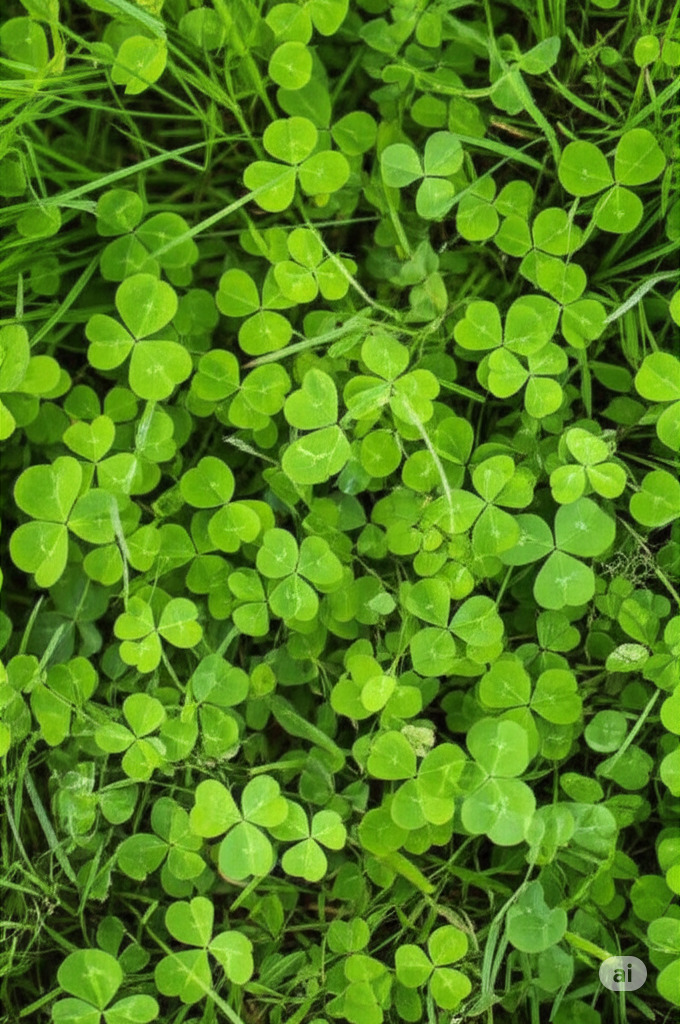3 leaf clover: (8, 446, 122, 586), (79, 272, 197, 403), (551, 114, 669, 233), (245, 95, 349, 220), (150, 892, 256, 1008), (186, 766, 290, 881), (394, 918, 479, 1008)
